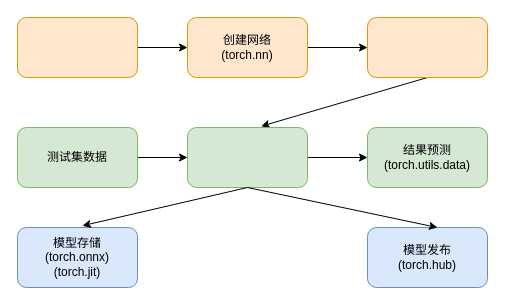
This 505x305 diagram has some shape labels left out. The shapes that lost their labels are listed below. From the top down, each one's centre as x and y in pixels, then its label:
the point at 77,47: 训练集数据 (torch.utils.data)
the point at 427,47: 训练网络 (torch.optim) (torch.autograd)
the point at 247,157: 模型训练
